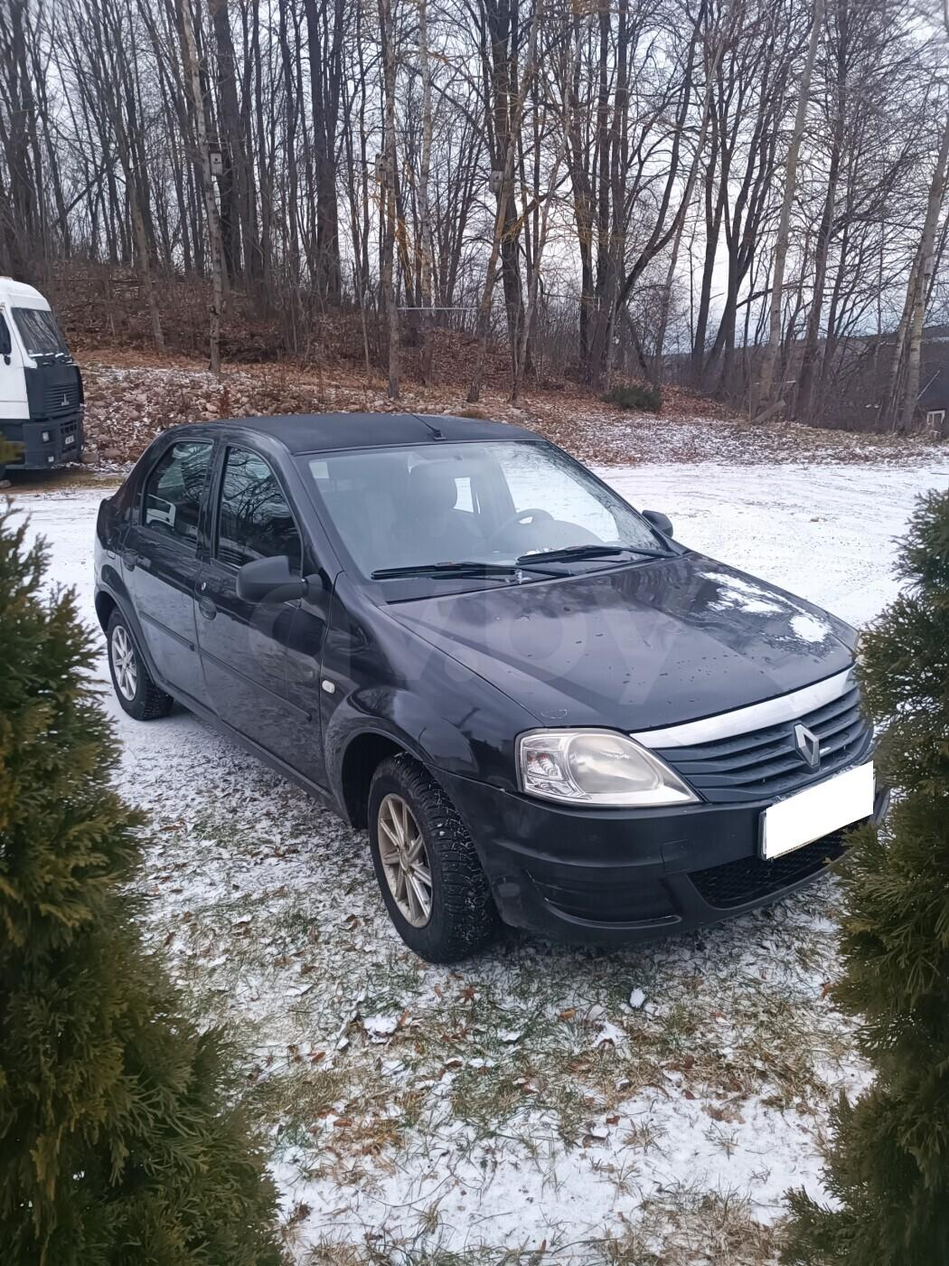Logan_2008-2015: (85, 409, 902, 959)
